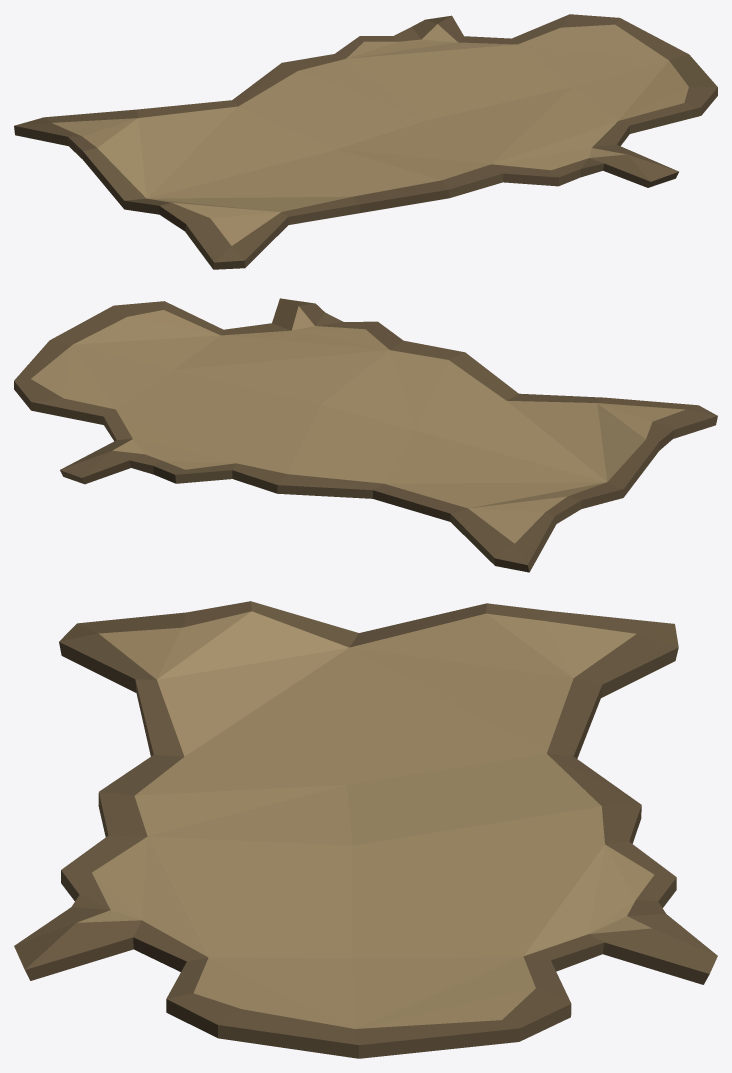
The model's file is EA03_Prop_Town_AnimalSkin_01b.glb.
The picture shows the model from 3 angles, top to bottom: view 1: azimuth 30°, elevation 25°; view 2: azimuth 150°, elevation 25°; view 3: azimuth 270°, elevation 25°; orthographic projection. The views are drawn at different scales.
Parts seen in each view (by area): view 1: EA03_Prop_Town_AnimalSkin_01b; view 2: EA03_Prop_Town_AnimalSkin_01b; view 3: EA03_Prop_Town_AnimalSkin_01b.
Part boxes in pixels (x1,y1,x2,y2): EA03_Prop_Town_AnimalSkin_01b: (14,14,717,269); EA03_Prop_Town_AnimalSkin_01b: (14,298,717,572); EA03_Prop_Town_AnimalSkin_01b: (14,601,717,1058).
Bounding box in the file's own units: 1.51 × 0.0862 × 1.04.
1 material, 1 textured.
